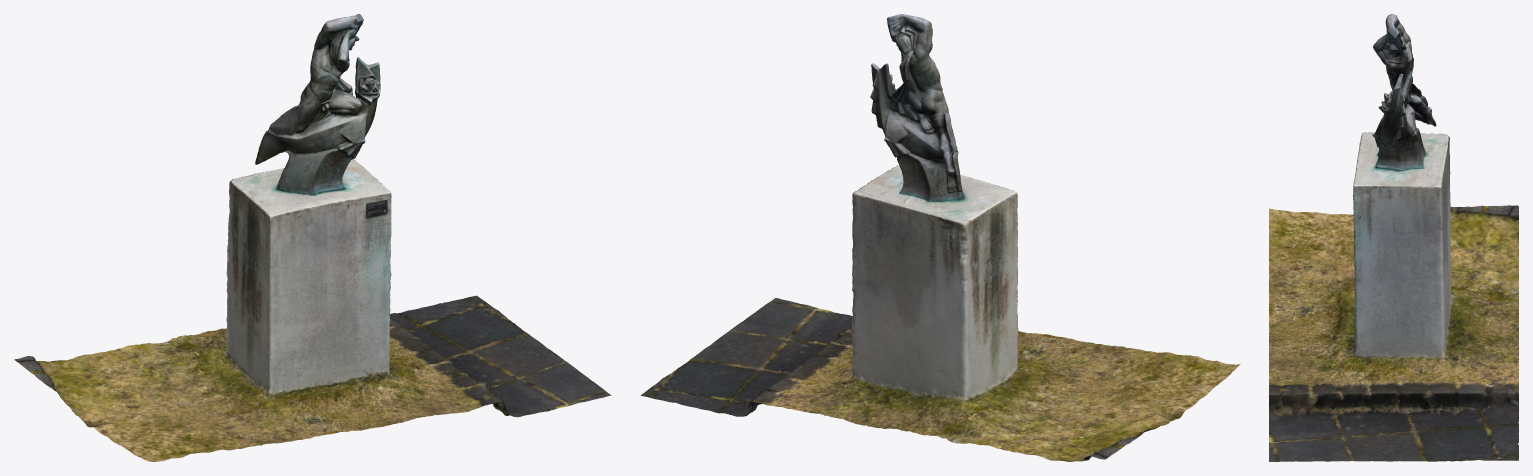
The model's file is saemundur.obj.
3 views of the same model, side by side, from view 1: azimuth 30°, elevation 25°; view 2: azimuth 150°, elevation 25°; view 3: azimuth 270°, elevation 25° (orthographic). The views are drawn at different scales.
Parts seen in each view (by area): view 1: Object; view 2: Object; view 3: Object.
Part boxes in pixels (x1,y1,x2,y2): Object: (14,14,611,461); Object: (640,14,1240,461); Object: (1269,14,1518,461).
Size of the model in its own units: 2.73 by 2.13 by 1.38.
